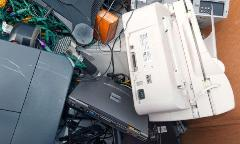electronic: (114, 0, 240, 126), (55, 62, 159, 144)
